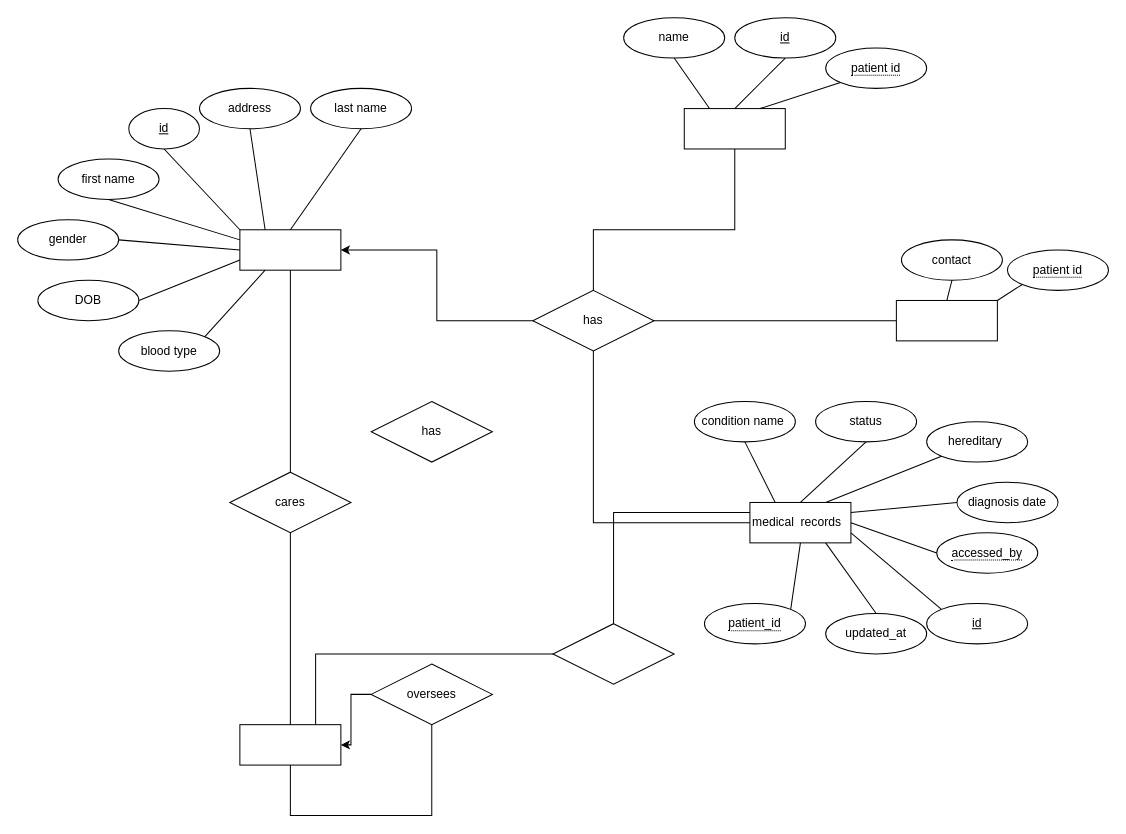
Some shapes in this 1126 by 834 pixel diagram are drawn without their labels. The centre of each missing label's shape, as x and y in pixels:
"accesses" belongs at point 613,653.
"Allergy" belongs at point 734,128.
"Contact Info" belongs at point 946,320.
"Employee" belongs at point 290,744.
"Patient" belongs at point 290,249.
